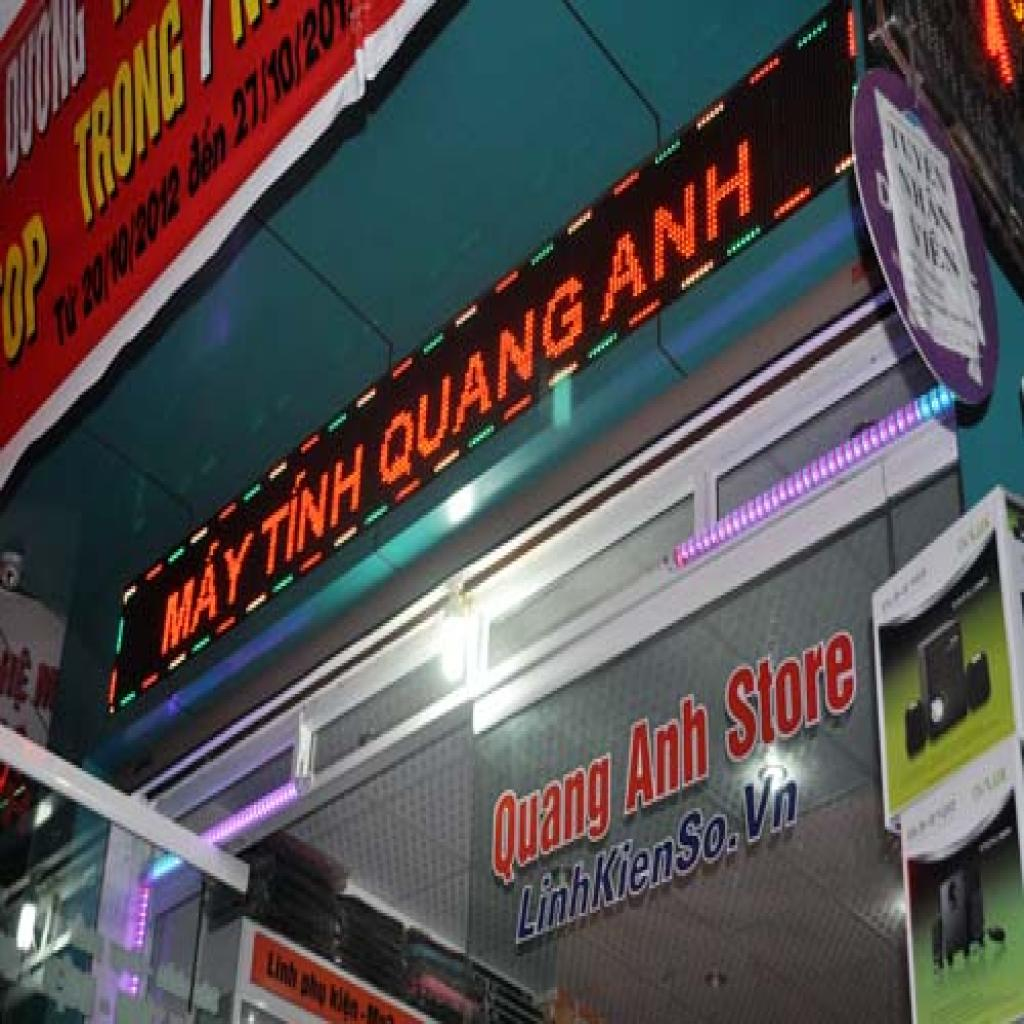text: (508, 753, 815, 962), (375, 253, 588, 512), (596, 114, 760, 346), (68, 3, 190, 241), (719, 605, 868, 777), (490, 737, 620, 901), (254, 416, 371, 598), (230, 3, 366, 157), (80, 154, 186, 330), (156, 506, 262, 669), (620, 678, 717, 830), (6, 188, 51, 376), (895, 160, 965, 247), (887, 114, 952, 198), (184, 96, 232, 206), (905, 210, 967, 284), (51, 274, 82, 354), (264, 941, 303, 996), (299, 962, 330, 1018), (327, 977, 362, 1024)
